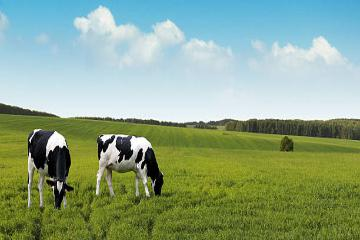cow: (96, 130, 165, 197), (25, 126, 73, 207)
